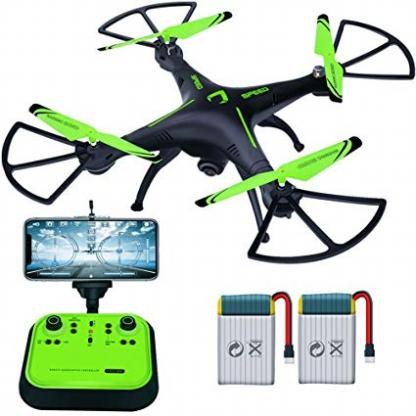drone: (11, 8, 416, 271)
